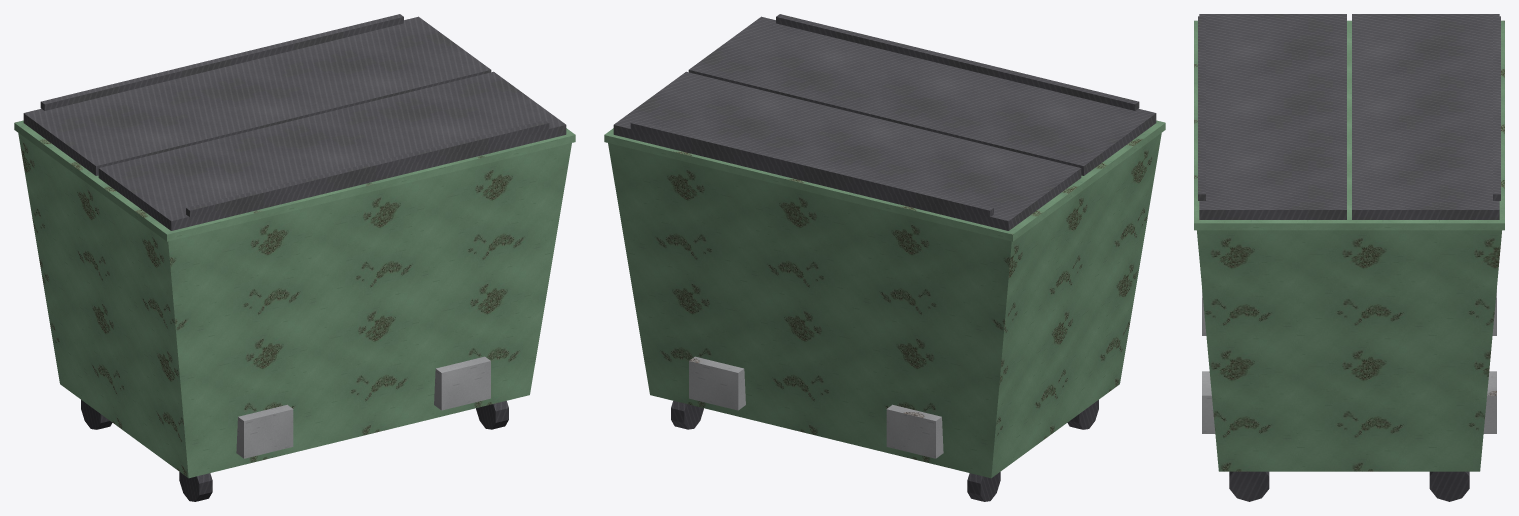
Rendered from dumpster.glb.
The picture shows the model from 3 angles, left to right: view 1: azimuth 30°, elevation 25°; view 2: azimuth 150°, elevation 25°; view 3: azimuth 270°, elevation 25°; orthographic projection.
Parts seen in each view (by area): view 1: NC_dumpster; view 2: NC_dumpster; view 3: NC_dumpster.
Boxes of the visible parts, x1,y1,x2,y2 form: NC_dumpster: [14, 14, 575, 501]; NC_dumpster: [604, 14, 1165, 501]; NC_dumpster: [1194, 14, 1504, 501].
Bounding box in the file's own units: 1.82 × 1.34 × 1.18.
4 materials, 4 textured.
